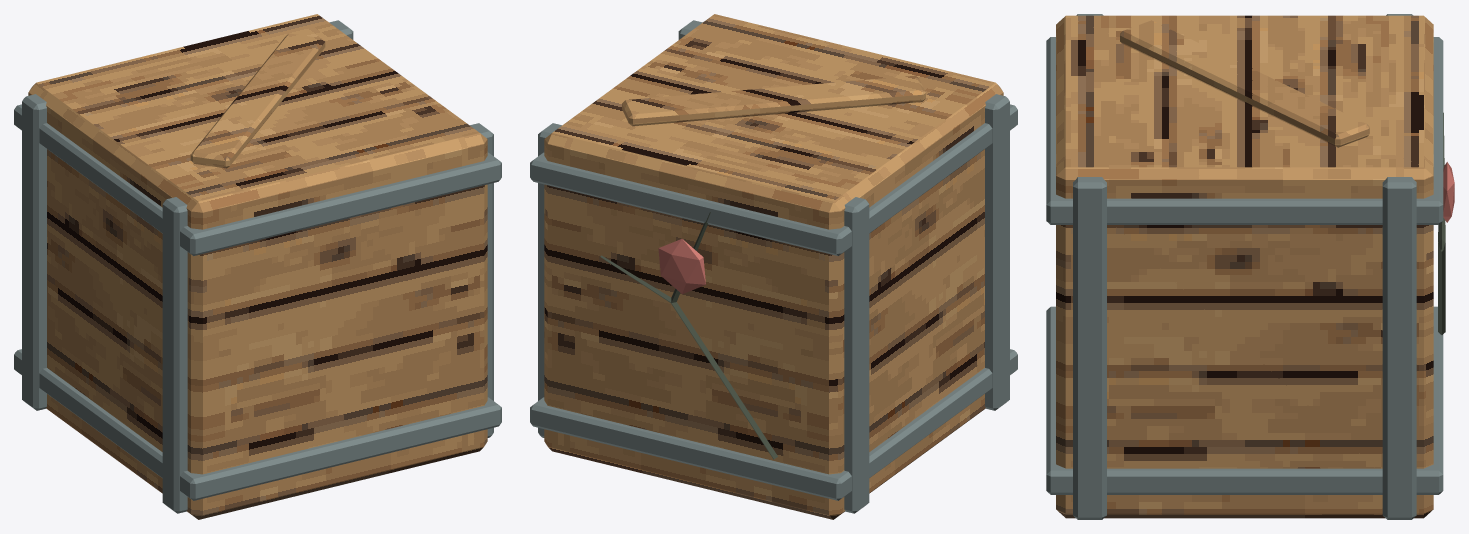
The model's file is caixa_rachada.fbx.
3 views of the same model, side by side, from view 1: azimuth 30°, elevation 25°; view 2: azimuth 150°, elevation 25°; view 3: azimuth 270°, elevation 25° (orthographic). The views are drawn at different scales.
Parts seen in each view (by area): view 1: deserto_caixa_rachada; view 2: deserto_caixa_rachada; view 3: deserto_caixa_rachada.
Boxes of the visible parts, box(x1,y1,x2,y2) form: deserto_caixa_rachada: box(14, 14, 501, 519); deserto_caixa_rachada: box(530, 14, 1017, 519); deserto_caixa_rachada: box(1046, 14, 1454, 519).
Bounding box in the file's own units: 84.2 × 83.2 × 84.33.
Materials: 4 (1 with a texture image).
